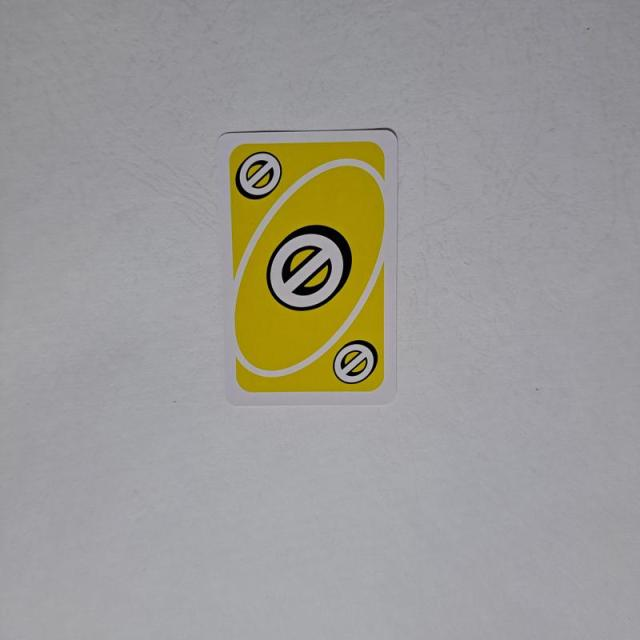Skip: (232, 148, 284, 201)
Yellow_Card: (223, 136, 393, 400)
